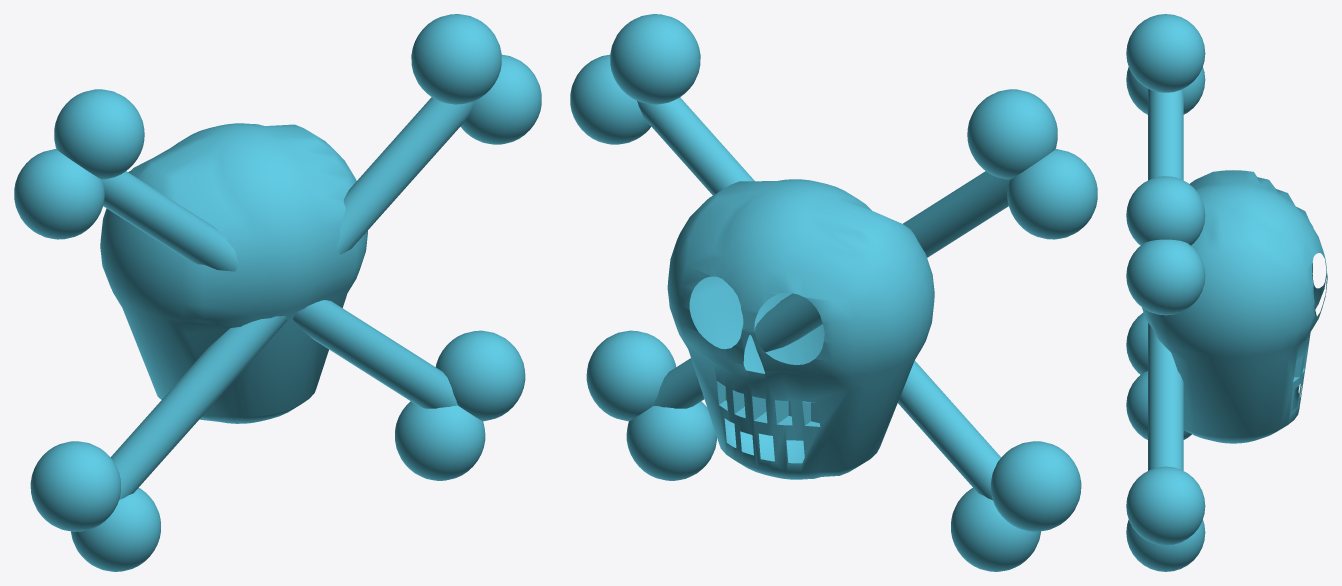
The model's file is Skull.obj.
3 views of the same model, side by side, from view 1: azimuth 30°, elevation 25°; view 2: azimuth 150°, elevation 25°; view 3: azimuth 270°, elevation 25° (orthographic). The views are drawn at different scales.
Parts seen in each view (by area): view 1: Skull; view 2: Skull; view 3: Skull.
Part boxes in pixels (x1,y1,x2,y2): Skull: (14,14,541,571); Skull: (570,14,1097,571); Skull: (1126,14,1327,571).
Size of the model in its own units: 882 by 781 by 343.
